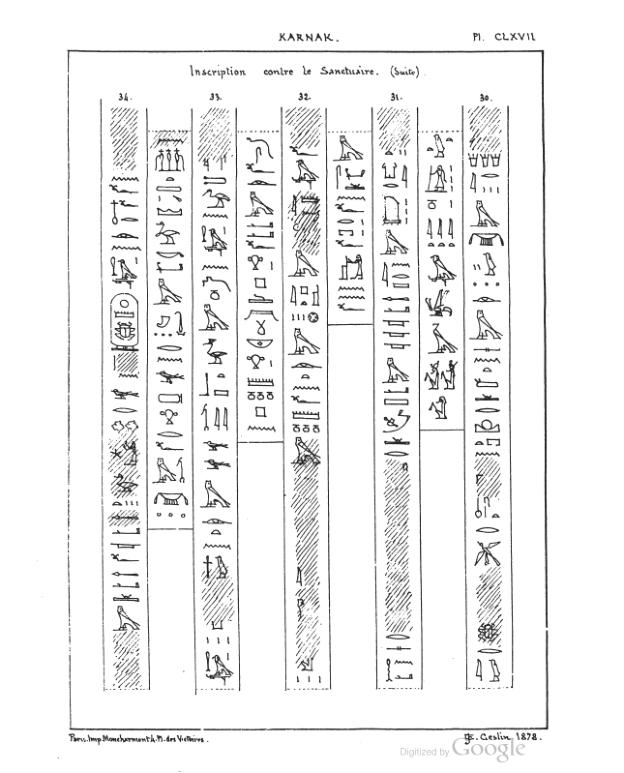circle: (106, 290, 145, 353)
